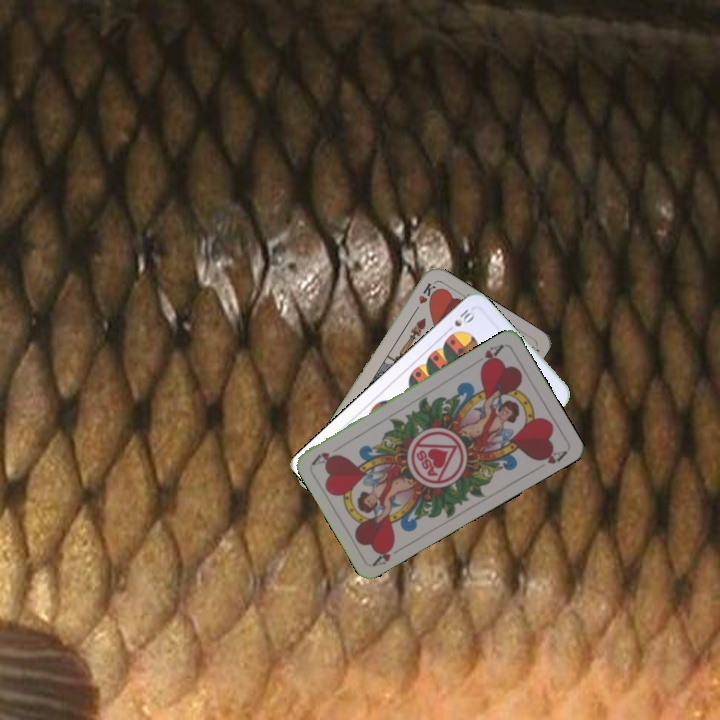HA: (369, 539, 407, 569), (476, 340, 506, 371)
HK: (410, 279, 439, 316)
S10: (442, 305, 478, 335)
